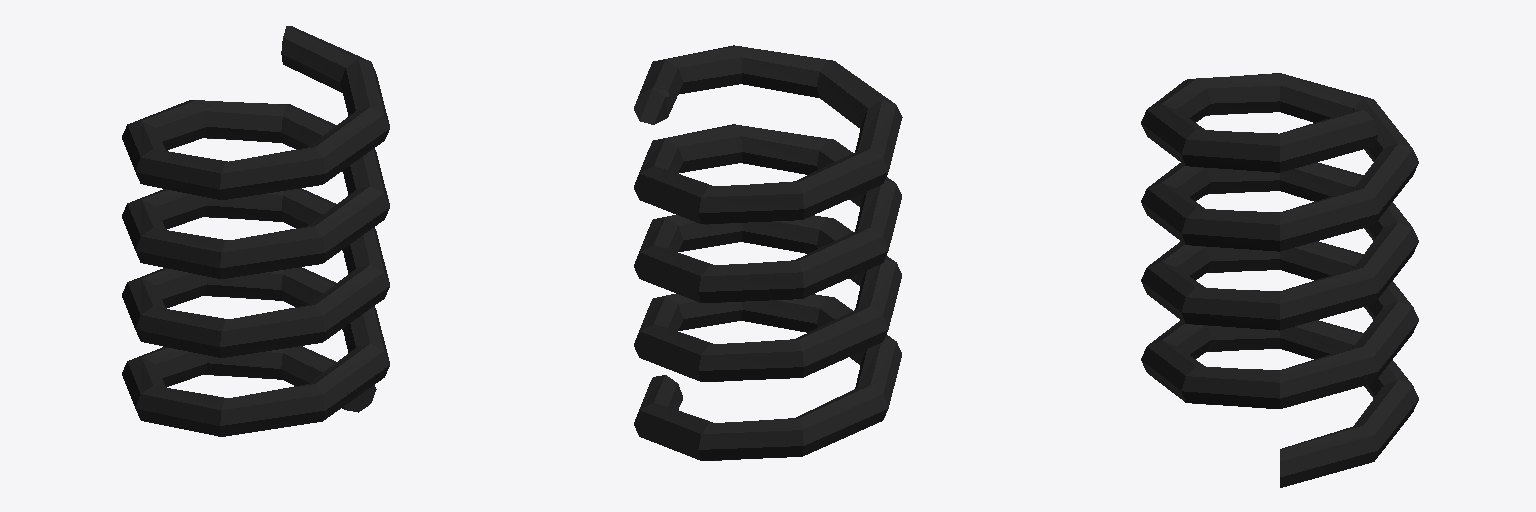
File: spring.obj
The picture shows the model from 3 angles: view 1: azimuth 30°, elevation 25°; view 2: azimuth 150°, elevation 25°; view 3: azimuth 270°, elevation 25°; orthographic projection.
Parts seen in each view (by area): view 1: spring; view 2: spring; view 3: spring.
Boxes of the visible parts, x1=… form: spring: x1=122, y1=26, x2=389, y2=436; spring: x1=634, y1=45, x2=902, y2=460; spring: x1=1141, y1=73, x2=1418, y2=487.
Size of the model in its own units: 2 by 2.88 by 2.